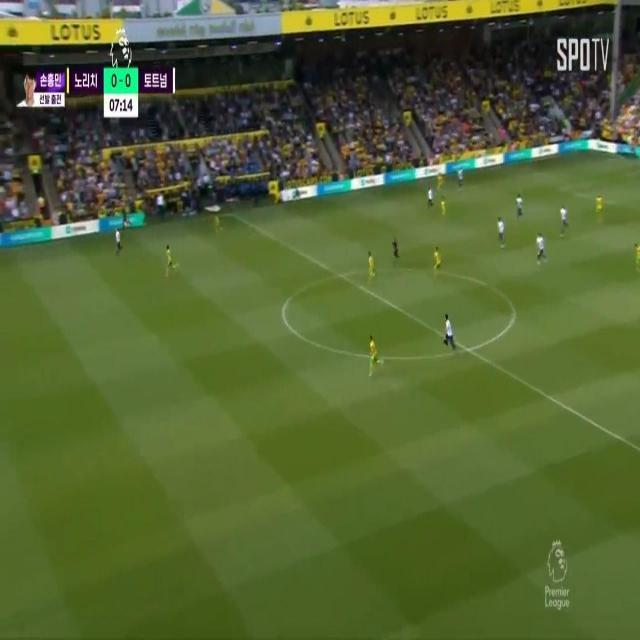player: (443, 313, 453, 353), (370, 336, 379, 375), (433, 245, 443, 279), (559, 202, 568, 236), (166, 245, 176, 275), (456, 165, 466, 193), (368, 249, 377, 280), (496, 215, 505, 245), (212, 213, 221, 237), (538, 234, 545, 263), (426, 185, 434, 210), (440, 196, 449, 217), (596, 193, 603, 219), (117, 228, 123, 257), (516, 196, 524, 217), (437, 173, 445, 193), (636, 238, 640, 276)
referee: (392, 237, 400, 264)
